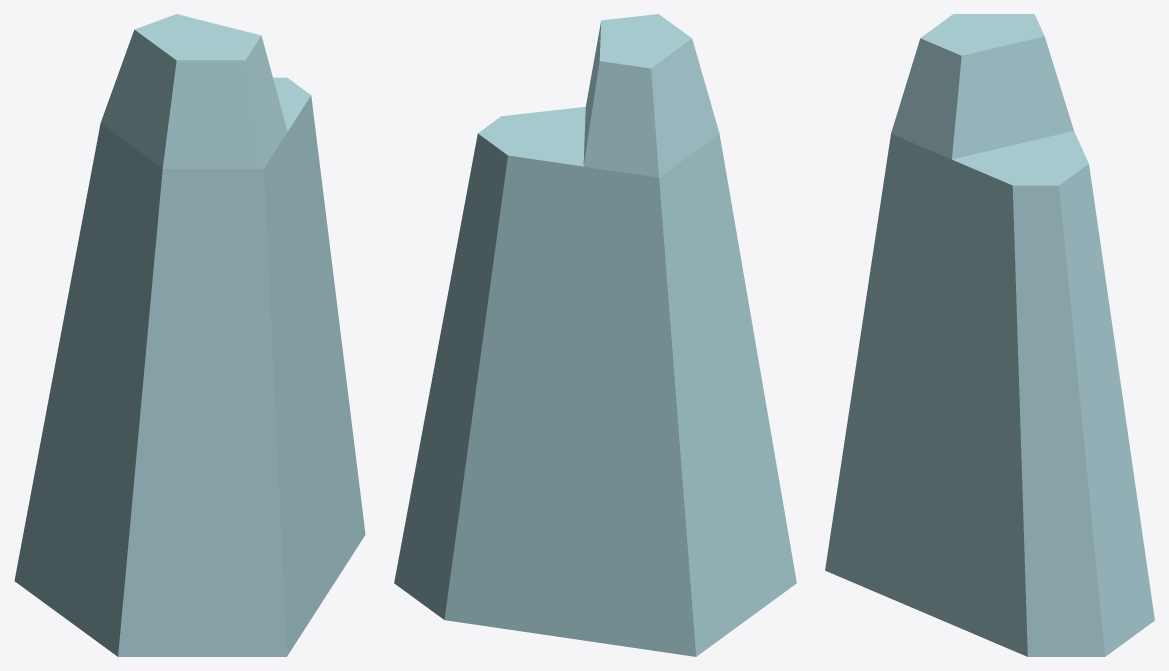
Rendered from d_kenney_roc_nu_c.glb.
The picture shows the model from 3 angles, left to right: view 1: azimuth 30°, elevation 25°; view 2: azimuth 150°, elevation 25°; view 3: azimuth 270°, elevation 25°; orthographic projection. The views are drawn at different scales.
Parts seen in each view (by area): view 1: d_kenney_roc_nu_c; view 2: d_kenney_roc_nu_c; view 3: d_kenney_roc_nu_c.
Boxes of the visible parts, x1,y1,x2,y2 form: d_kenney_roc_nu_c: (14,14,365,656); d_kenney_roc_nu_c: (394,14,796,656); d_kenney_roc_nu_c: (825,14,1154,656).
Size of the model in its own units: 0.4562 by 0.7829 by 0.4365.
1 material, 1 textured.
